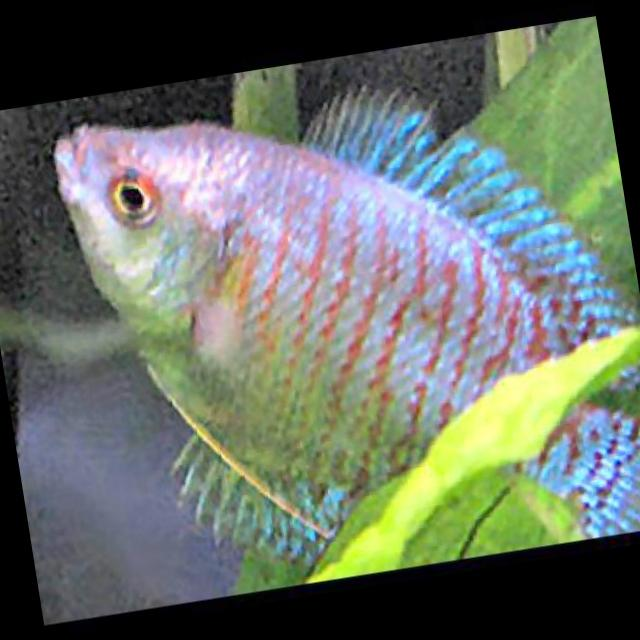Gourami: (35, 31, 640, 612)
